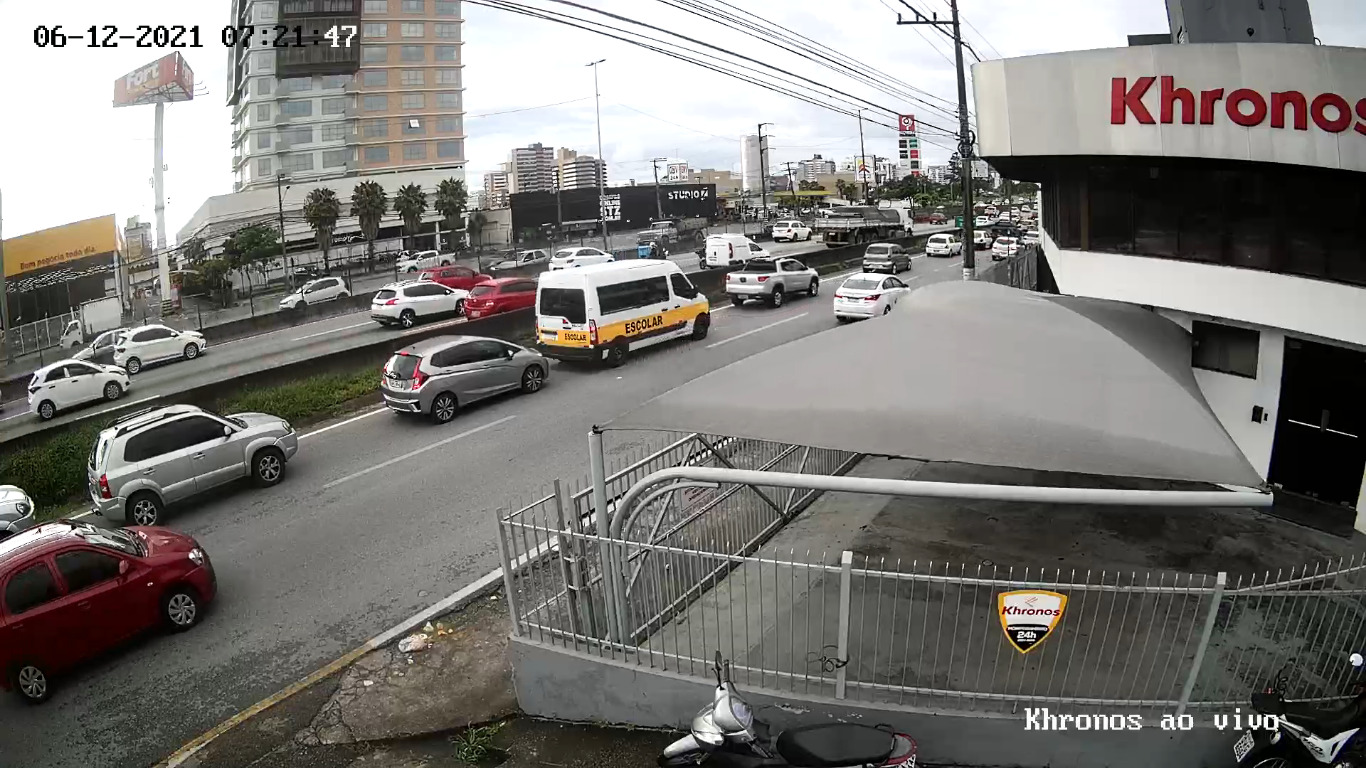car: (1, 524, 220, 703), (84, 404, 299, 524), (381, 332, 550, 423), (724, 256, 820, 309), (833, 272, 912, 323)
